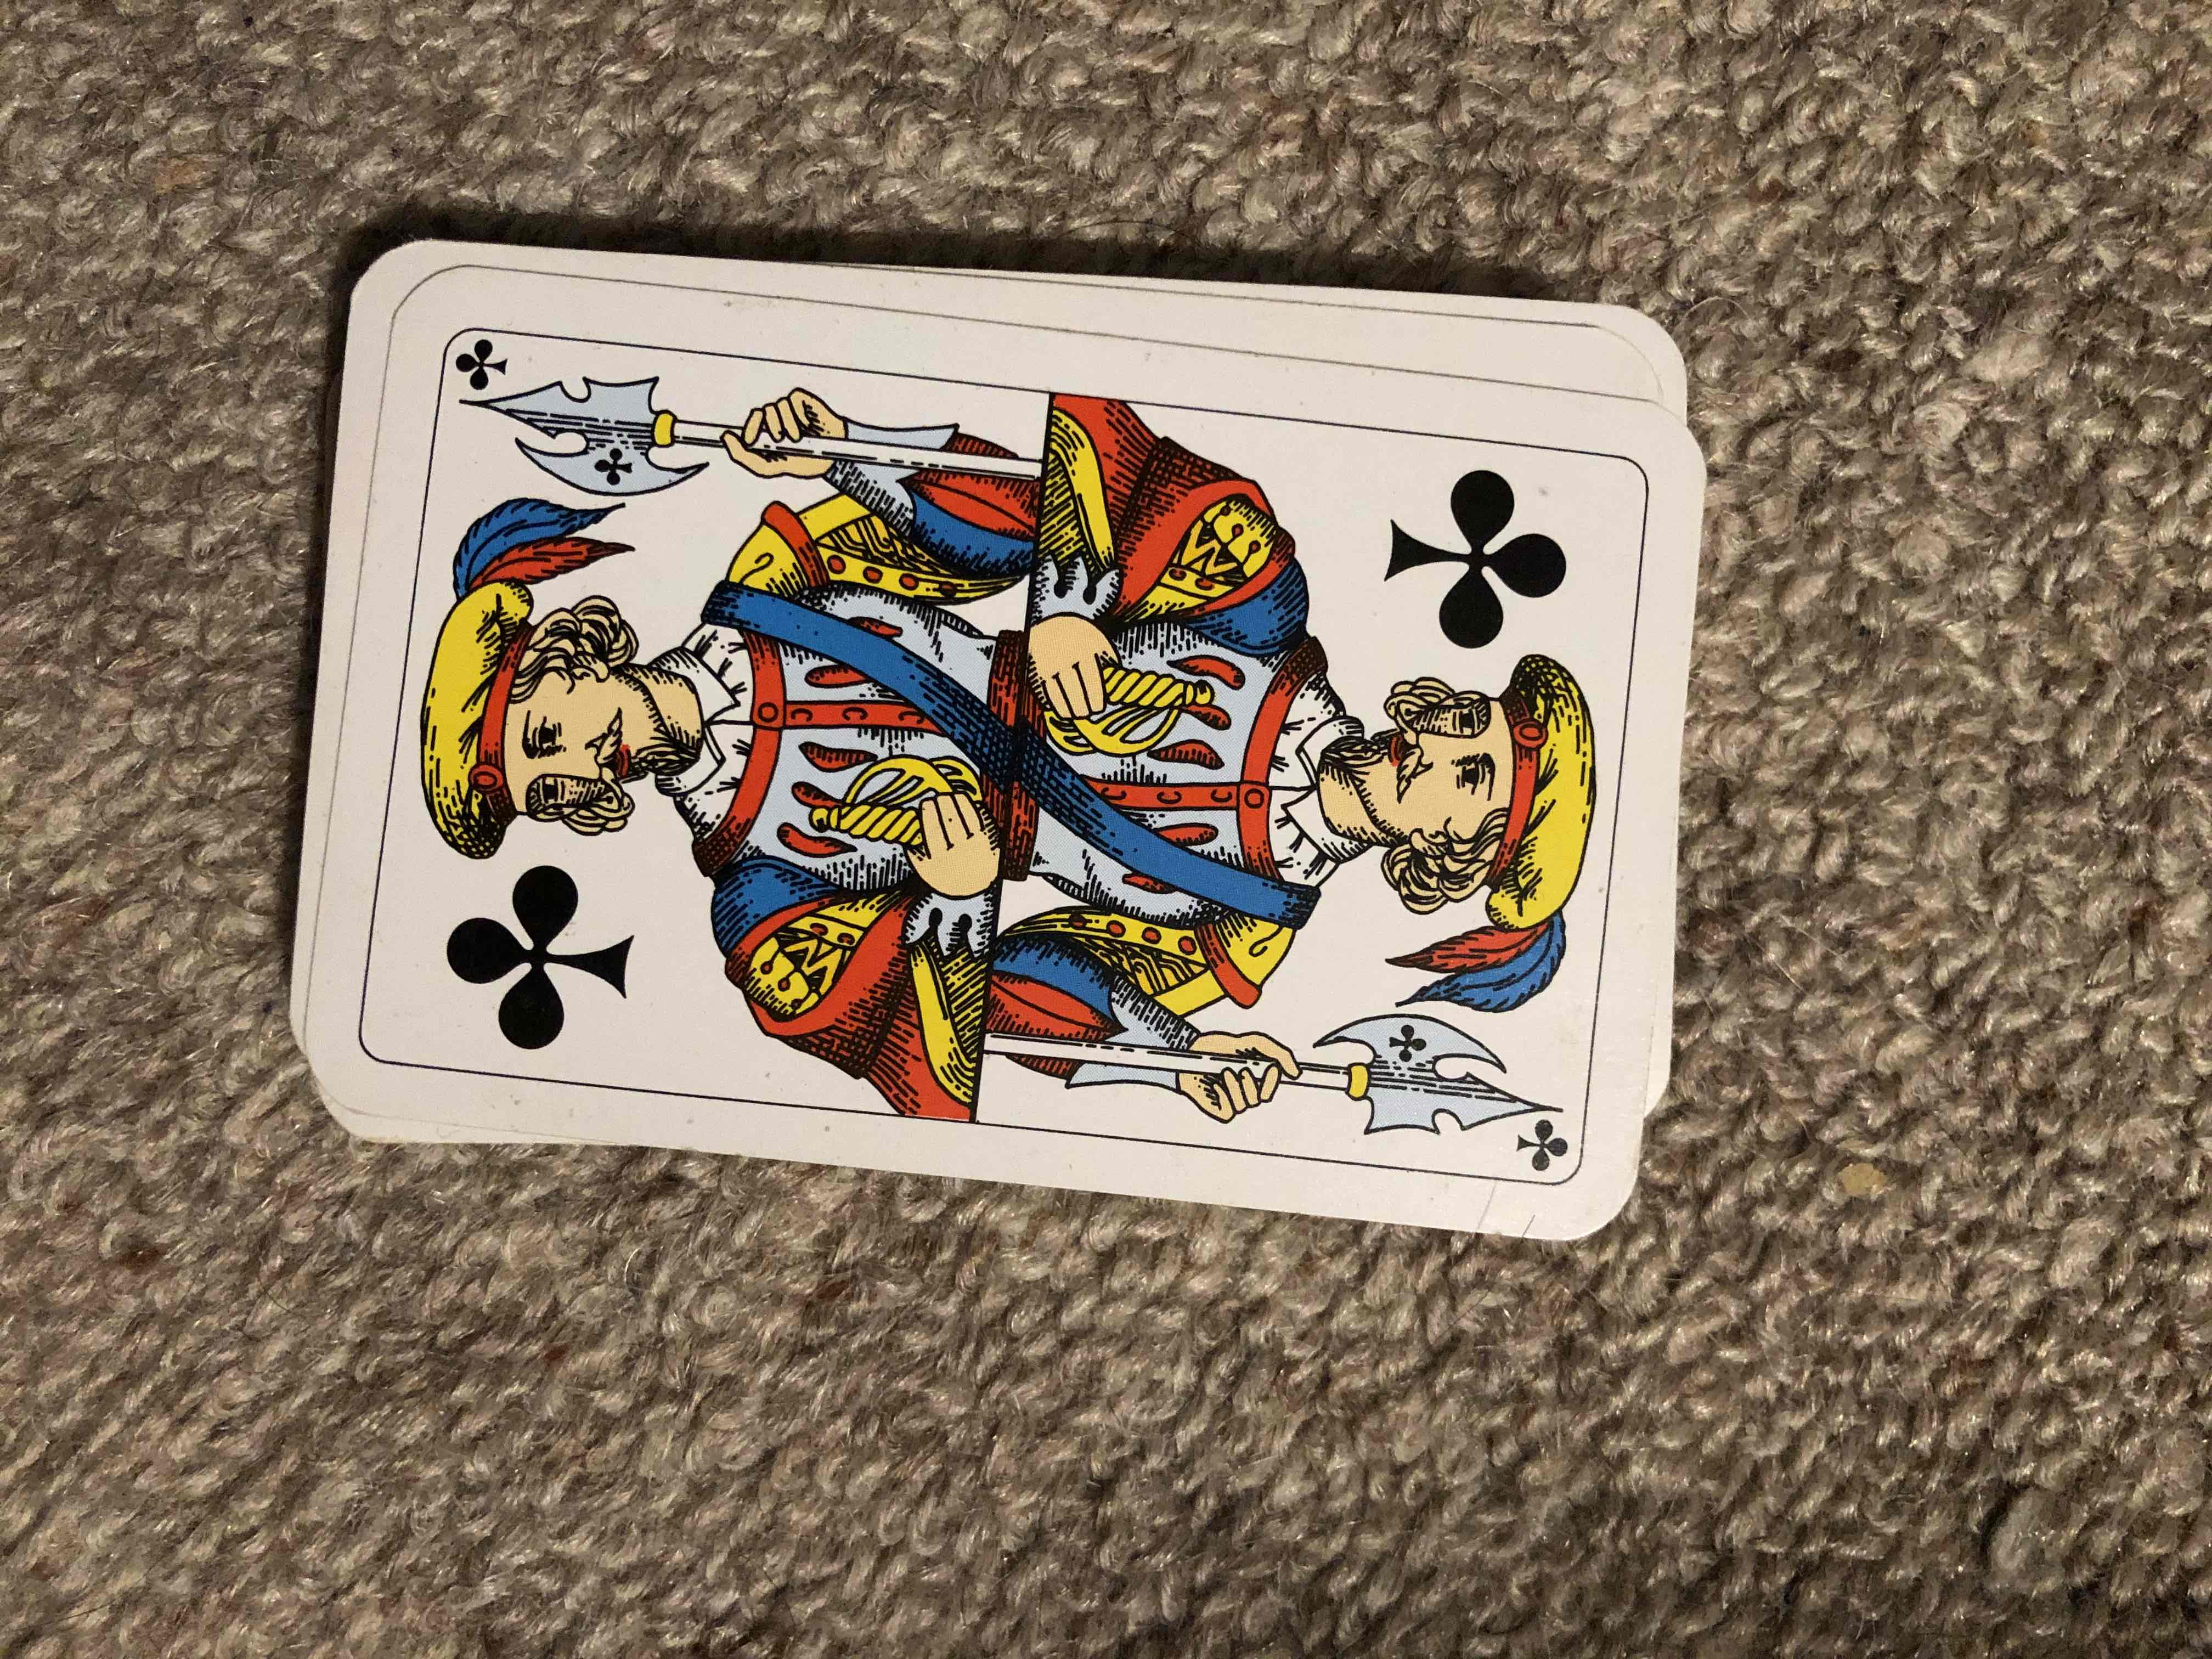clubsJack: (368, 237, 1705, 1279)
